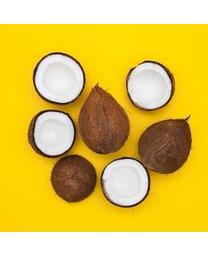coconut: (77, 86, 131, 156), (137, 117, 192, 175), (32, 51, 86, 105), (126, 61, 176, 111), (100, 158, 150, 208), (27, 109, 75, 158), (50, 155, 97, 202)
